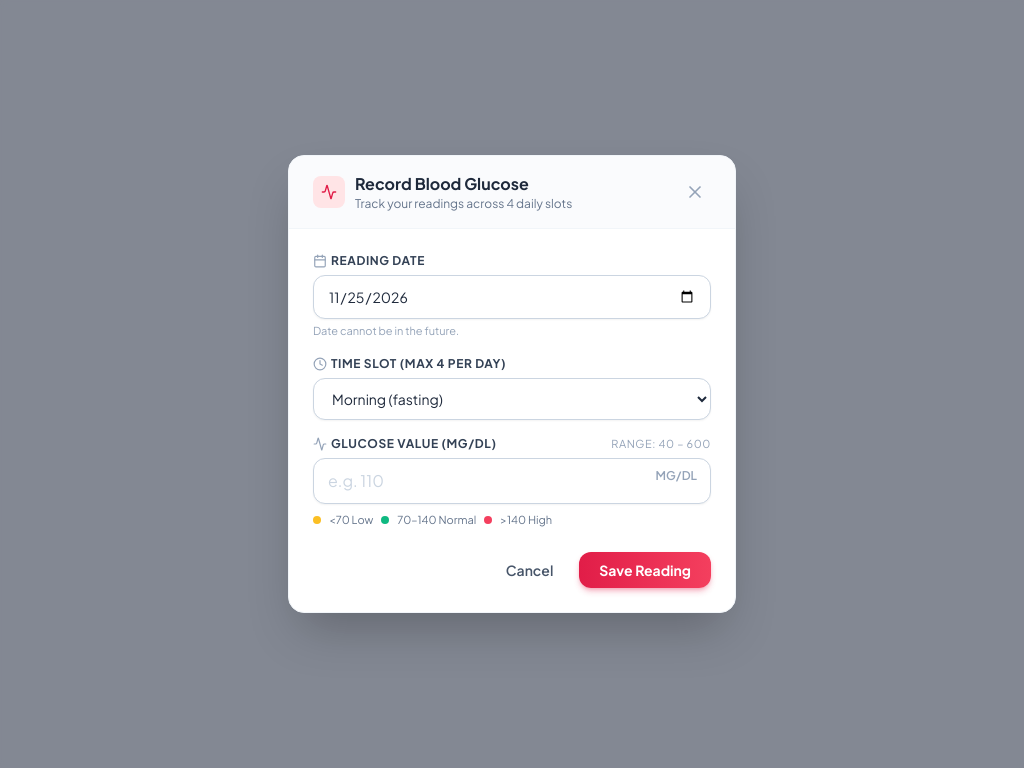
Test: ReadingModal Form Component & Validation Rules › displays exact error "Date cannot be in the future." when future date is selected
Type "2099-12-31" into the date field with test id "input-date" at (512, 297), box [313,275,711,319]
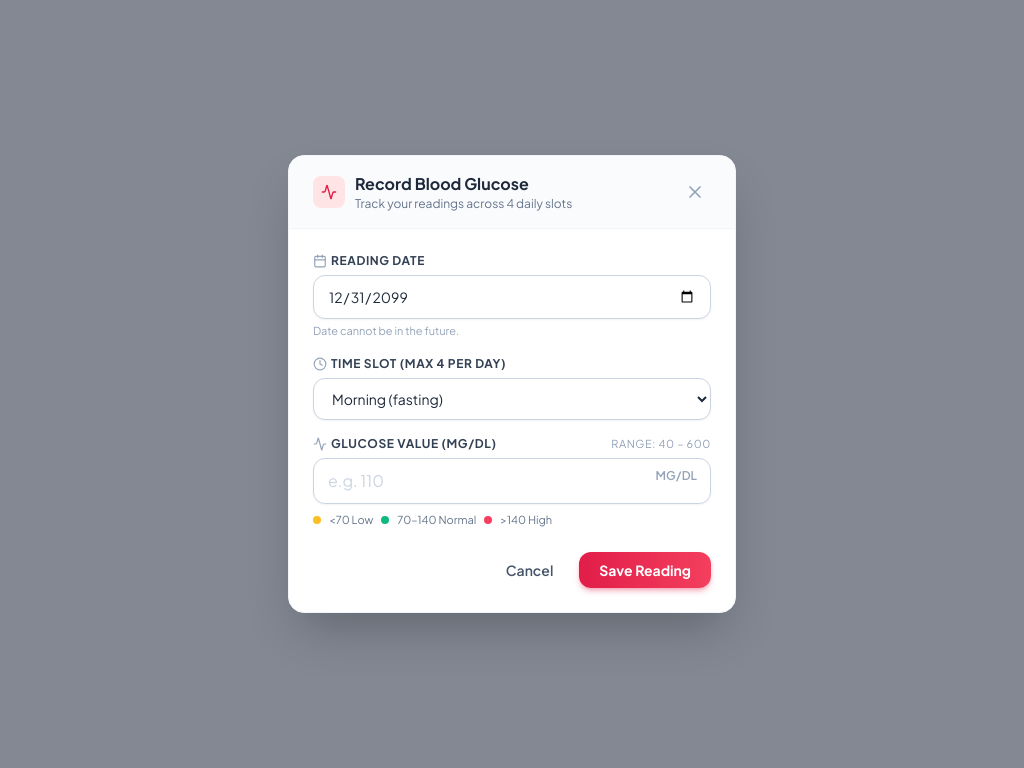
Type "110" into the number field with test id "input-value" at (512, 480), box [313,458,711,504]
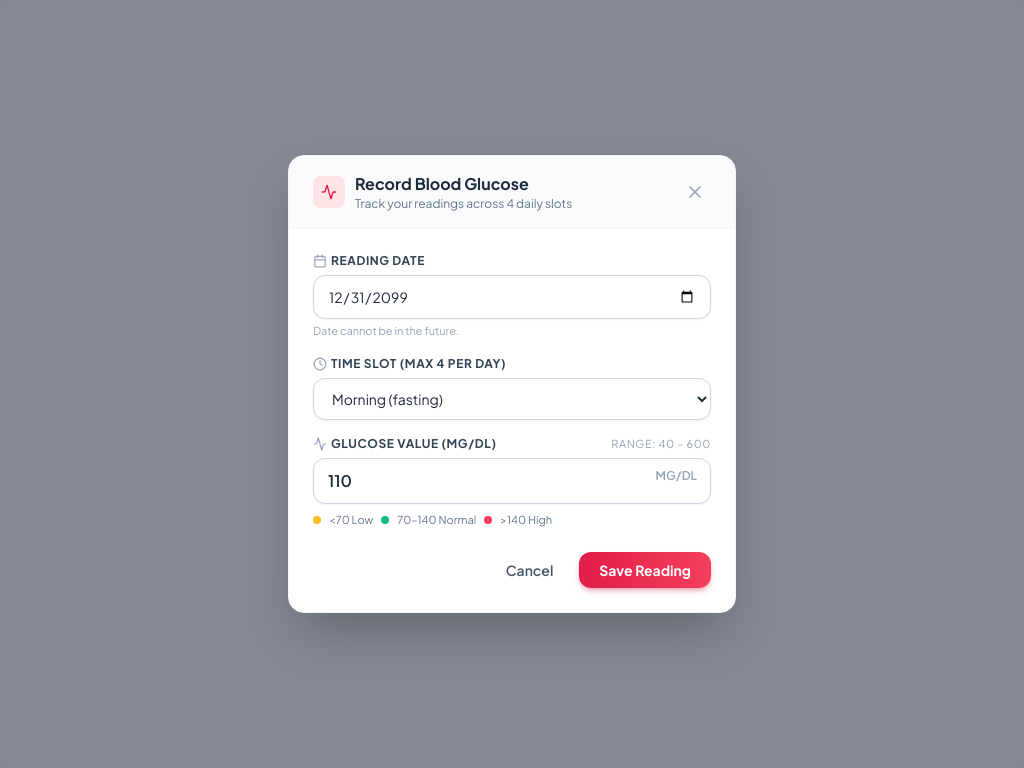
Click the button with test id "submit-reading-btn" at (645, 570), box [579,552,711,588]
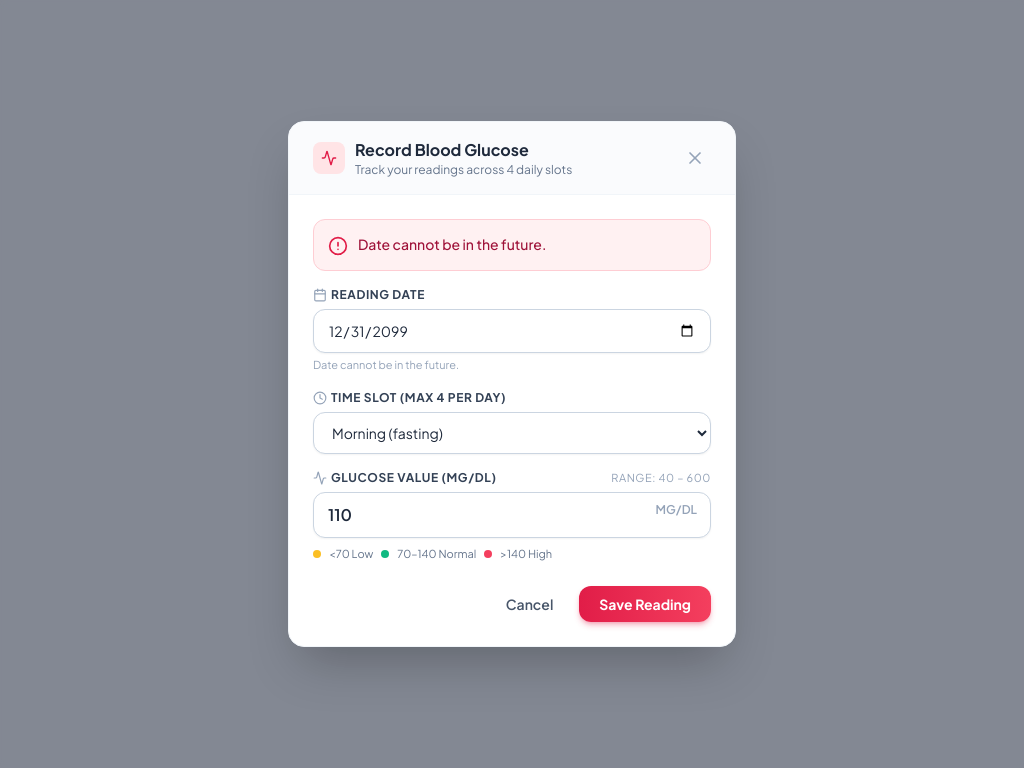
Result: the message "Date cannot be in the future." is shown at [313,219,711,271]
Result: the message with test id "validation-error-message" reads "Date cannot be in the future." at [358,235,546,253]
